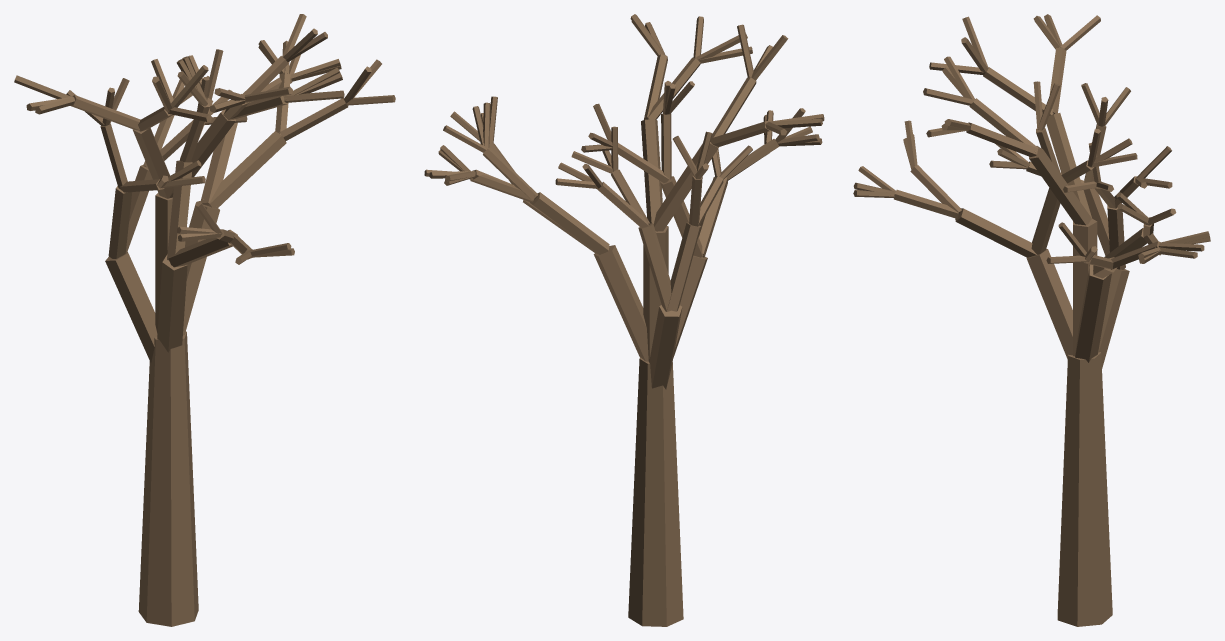
File: arbre_desert_2.glb
3 views of the same model, side by side, from view 1: azimuth 30°, elevation 25°; view 2: azimuth 150°, elevation 25°; view 3: azimuth 270°, elevation 25° (orthographic). The views are drawn at different scales.
Visible parts, largest first — view 1: branches_bois_sec.004, tronc.012; view 2: branches_bois_sec.004, tronc.012; view 3: branches_bois_sec.004, tronc.012.
Boxes of the visible parts, x1=… form: branches_bois_sec.004: x1=14, y1=14, x2=395, y2=362; tronc.012: x1=138, y1=331, x2=198, y2=626; branches_bois_sec.004: x1=424, y1=14, x2=824, y2=389; tronc.012: x1=628, y1=357, x2=683, y2=626; branches_bois_sec.004: x1=853, y1=14, x2=1210, y2=368; tronc.012: x1=1057, y1=352, x2=1112, y2=626.
Size of the model in its own units: 2.12 by 3.23 by 1.85.
